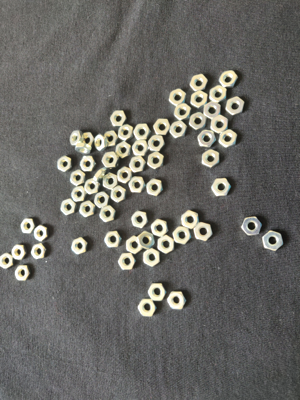nut: (241, 217, 263, 236), (263, 231, 283, 251), (225, 97, 245, 116), (219, 129, 238, 148), (198, 130, 217, 149), (189, 112, 208, 131), (173, 226, 192, 245), (212, 179, 232, 197), (202, 149, 220, 169), (182, 210, 200, 230), (219, 70, 238, 88), (211, 115, 229, 134), (194, 223, 213, 241), (168, 292, 187, 310), (148, 284, 167, 302), (138, 299, 157, 317), (138, 231, 156, 250), (191, 90, 208, 110), (210, 85, 228, 103), (170, 121, 188, 139), (151, 219, 169, 237), (146, 179, 164, 197), (174, 104, 193, 121), (158, 235, 175, 254), (126, 236, 143, 255), (148, 151, 165, 170), (204, 102, 221, 120), (190, 74, 208, 91), (169, 89, 187, 106), (131, 211, 148, 229), (118, 253, 136, 270), (104, 231, 122, 248), (148, 135, 166, 152), (129, 156, 147, 173), (102, 152, 120, 169), (144, 248, 160, 267), (72, 237, 88, 256), (129, 177, 146, 194), (134, 124, 152, 140), (132, 140, 150, 156), (100, 205, 116, 223), (154, 119, 171, 135), (70, 170, 86, 187), (31, 243, 47, 260), (15, 265, 31, 282), (85, 179, 101, 195), (61, 199, 77, 215), (118, 124, 133, 141), (116, 142, 131, 159), (111, 186, 126, 203), (103, 173, 118, 190), (80, 201, 95, 218), (72, 186, 87, 203), (118, 166, 132, 184), (111, 111, 127, 126), (104, 131, 119, 147), (94, 168, 110, 183), (95, 192, 110, 208), (81, 156, 96, 172), (34, 225, 48, 242), (95, 134, 108, 152), (12, 245, 27, 260), (70, 131, 84, 147), (58, 156, 72, 172), (0, 253, 14, 269), (21, 219, 35, 234), (75, 143, 92, 154), (83, 133, 95, 146)
